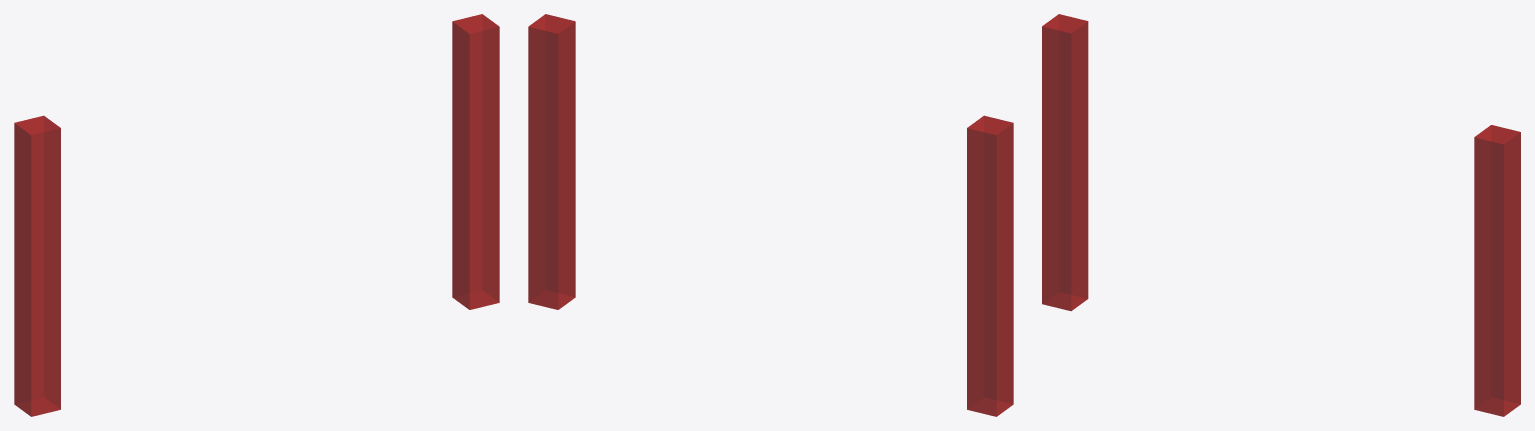
The model's file is SM_Prop_Meadow_Fence_Gate_Set_01_Collision.fbx.
The picture shows the model from 3 angles, left to right: view 1: azimuth 30°, elevation 25°; view 2: azimuth 150°, elevation 25°; view 3: azimuth 330°, elevation 25°; orthographic projection.
Parts seen in each view (by area): view 1: SM_Prop_Meadow_Fence_Gate_Set_01_Collision; view 2: SM_Prop_Meadow_Fence_Gate_Set_01_Collision; view 3: SM_Prop_Meadow_Fence_Gate_Set_01_Collision.
Boxes of the visible parts, box(x1,y1,x2,y2) form: SM_Prop_Meadow_Fence_Gate_Set_01_Collision: box(14, 14, 499, 416); SM_Prop_Meadow_Fence_Gate_Set_01_Collision: box(528, 14, 1013, 416); SM_Prop_Meadow_Fence_Gate_Set_01_Collision: box(1042, 14, 1520, 416).
Bounding box in the file's own units: 266 × 153 × 17.1.
